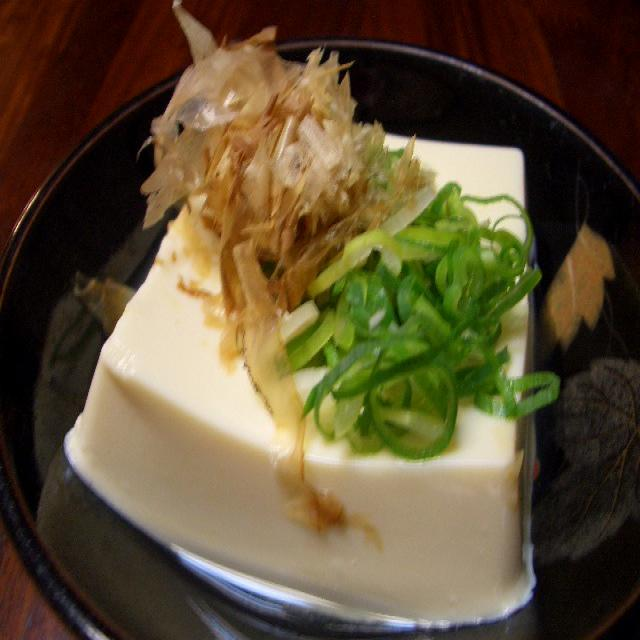豆腐料理: (56, 0, 560, 635)
